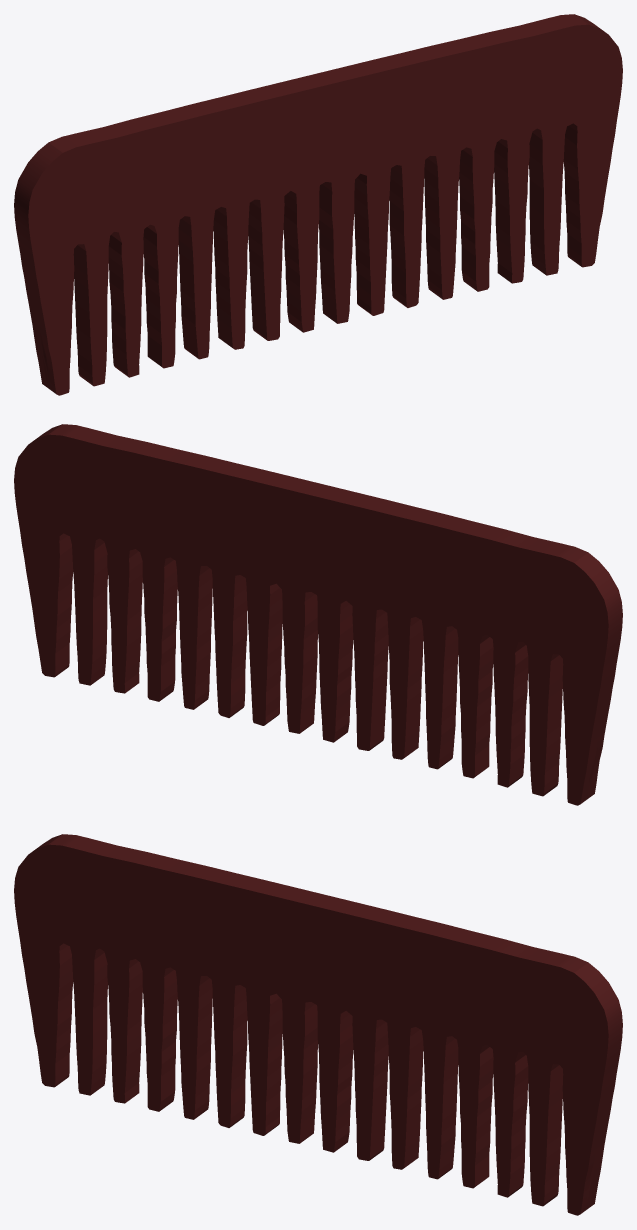
Rendered from comb.fbx.
3 views of the same model, one above another, from view 1: azimuth 30°, elevation 25°; view 2: azimuth 150°, elevation 25°; view 3: azimuth 330°, elevation 25° (orthographic).
Visible parts, largest first — view 1: pCube1; view 2: pCube1; view 3: pCube1.
Part boxes in pixels (<box>): pCube1: <box>14,14,622,395</box>; pCube1: <box>14,424,622,805</box>; pCube1: <box>14,834,622,1215</box>.
Size of the model in its own units: 6.21 by 2.45 by 0.2596.
